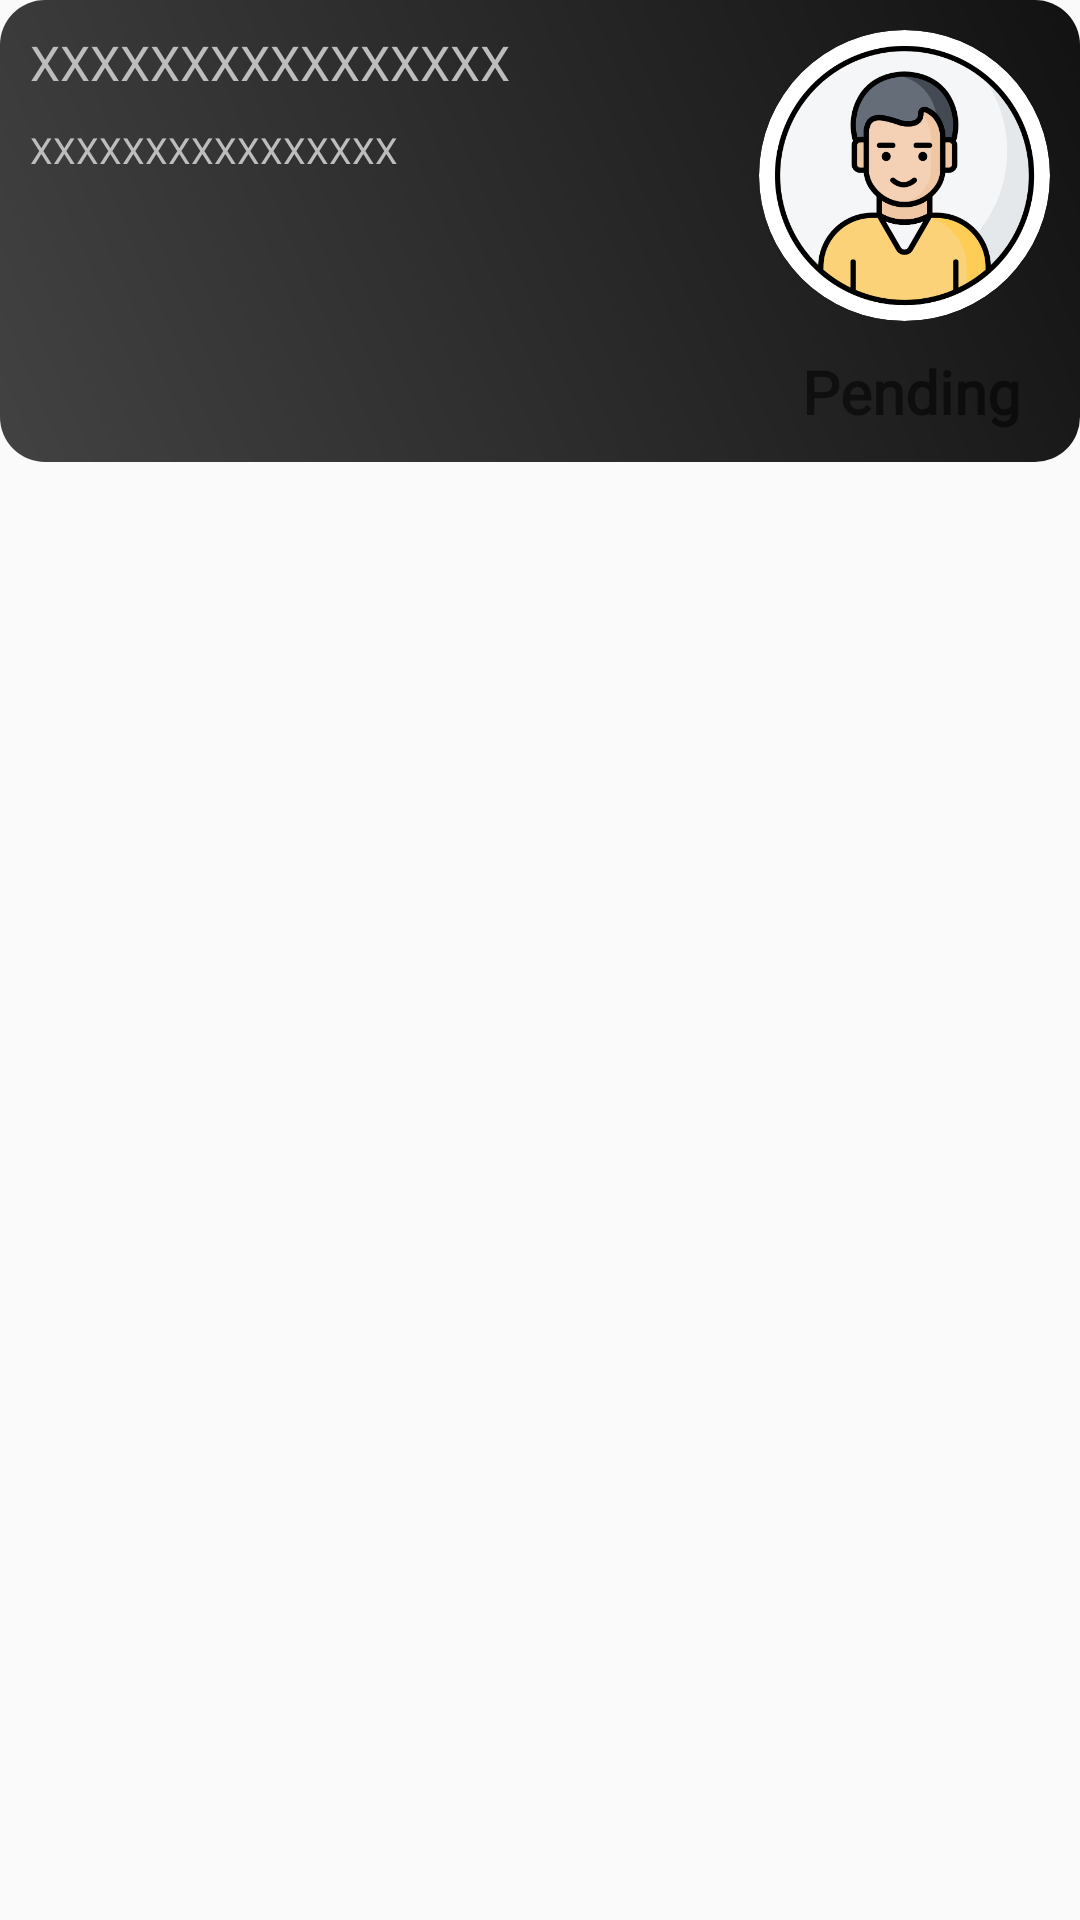

Screen size 1080px x 1920px. Icon name, then its center in pixels as point (x, y):
profile pic: point (904, 175)
